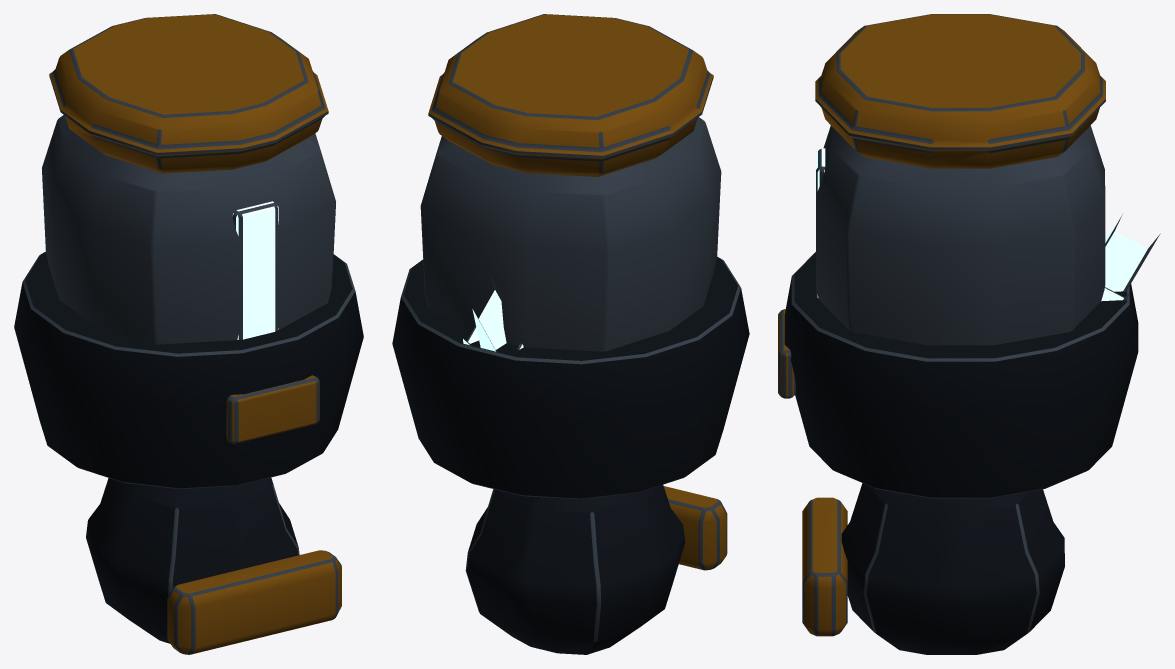
The model's file is Runica_LuvaL.fbx.
The picture shows the model from 3 angles, left to right: view 1: azimuth 30°, elevation 25°; view 2: azimuth 150°, elevation 25°; view 3: azimuth 270°, elevation 25°; orthographic projection. The views are drawn at different scales.
Parts seen in each view (by area): view 1: Piece; view 2: Piece; view 3: Piece.
Boxes of the visible parts, <box> form: Piece: <box>14,14,363,654</box>; Piece: <box>392,14,749,654</box>; Piece: <box>778,14,1160,654</box>.
Bounding box in the file's own units: 0.1962 × 0.3488 × 0.2116.
